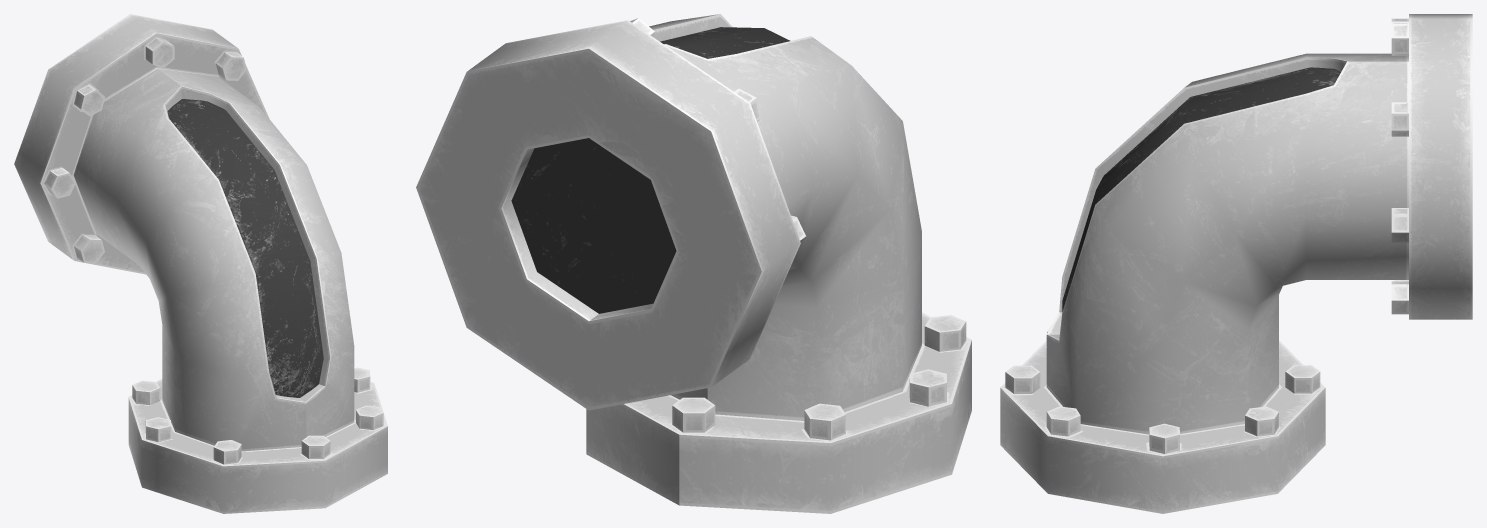
The model's file is Pipe_Curve.glb.
3 renders of one model, left to right at view 1: azimuth 30°, elevation 25°; view 2: azimuth 150°, elevation 25°; view 3: azimuth 270°, elevation 25°, orthographic. The views are drawn at different scales.
Parts seen in each view (by area): view 1: pipe_curve; view 2: pipe_curve; view 3: pipe_curve.
Boxes of the visible parts, x1,y1,x2,y2 form: pipe_curve: (14, 14, 387, 513); pipe_curve: (416, 14, 971, 513); pipe_curve: (1000, 14, 1472, 513).
Size of what is drawn, in the model's own units: 0.7154 by 1.03 by 1.04.
1 material, 1 textured.
